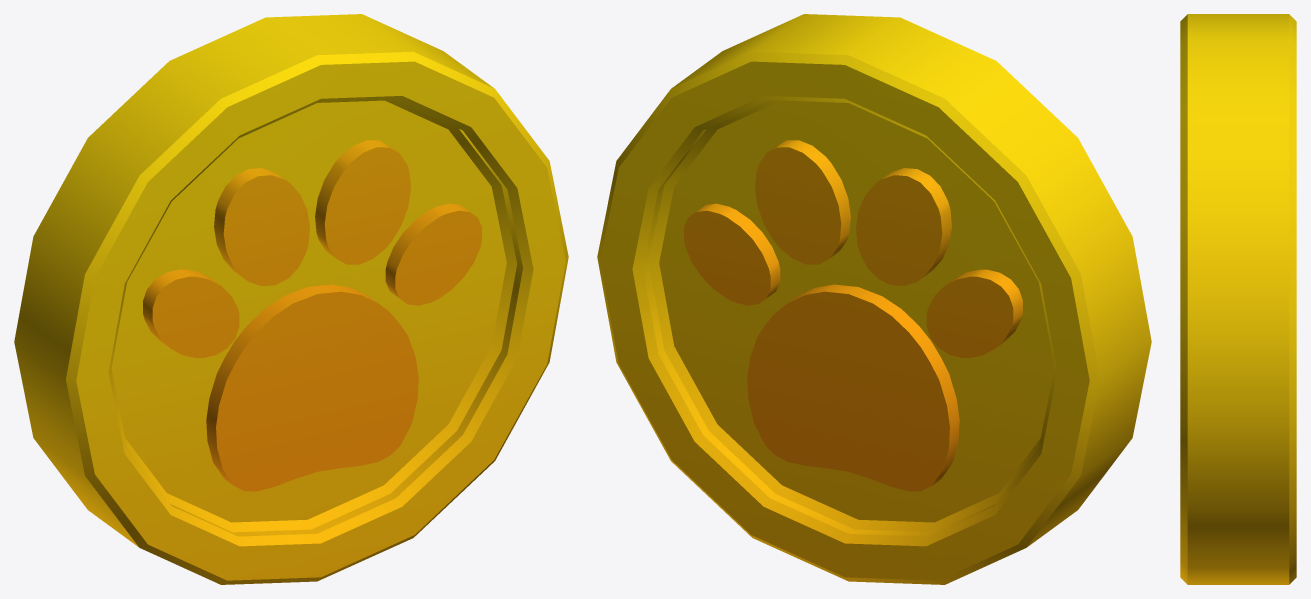
File: Coin.fbx
The picture shows the model from 3 angles, left to right: view 1: azimuth 30°, elevation 25°; view 2: azimuth 150°, elevation 25°; view 3: azimuth 270°, elevation 25°; orthographic projection.
Parts seen in each view (by area): view 1: Coin; view 2: Coin; view 3: Coin.
Boxes of the visible parts, left/top/right/bottom form: Coin: left=14, top=14, right=568, bottom=584; Coin: left=597, top=14, right=1151, bottom=584; Coin: left=1180, top=14, right=1296, bottom=584.
Size of the model in its own units: 61.2 by 61.2 by 12.46.
